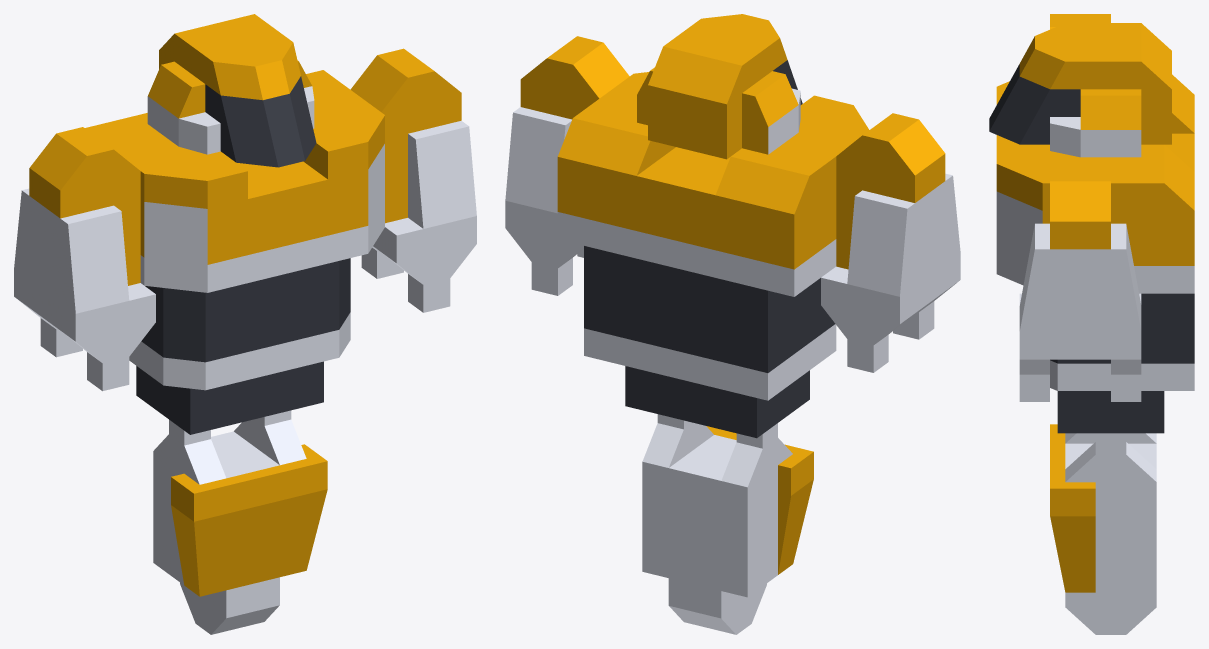
File: pawn.fbx
3 views of the same model, side by side, from view 1: azimuth 30°, elevation 25°; view 2: azimuth 150°, elevation 25°; view 3: azimuth 270°, elevation 25° (orthographic).
Visible parts, largest first — view 1: chest_body, leg_thin (×2), leg_padding, head_marine; view 2: chest_body, leg_thin (×2), leg_padding, head_marine; view 3: chest_body, leg_thin (×2), head_marine, leg_padding.
Boxes of the visible parts, x1=… form: chest_body: x1=85, y1=70, x2=384, y2=434; leg_thin (×2): x1=14, y1=48, x2=476, y2=391; leg_padding: x1=153, y1=410, x2=327, y2=634; head_marine: x1=147, y1=14, x2=316, y2=167; chest_body: x1=557, y1=72, x2=869, y2=438; leg_thin (×2): x1=505, y1=36, x2=960, y2=372; leg_padding: x1=642, y1=414, x2=813, y2=634; head_marine: x1=637, y1=14, x2=802, y2=159; chest_body: x1=996, y1=74, x2=1194, y2=433; leg_thin (×2): x1=1019, y1=14, x2=1141, y2=401; head_marine: x1=989, y1=23, x2=1171, y2=157; leg_padding: x1=1050, y1=424, x2=1156, y2=634.
Bounding box in the file's own units: 15 × 21 × 6.75.
